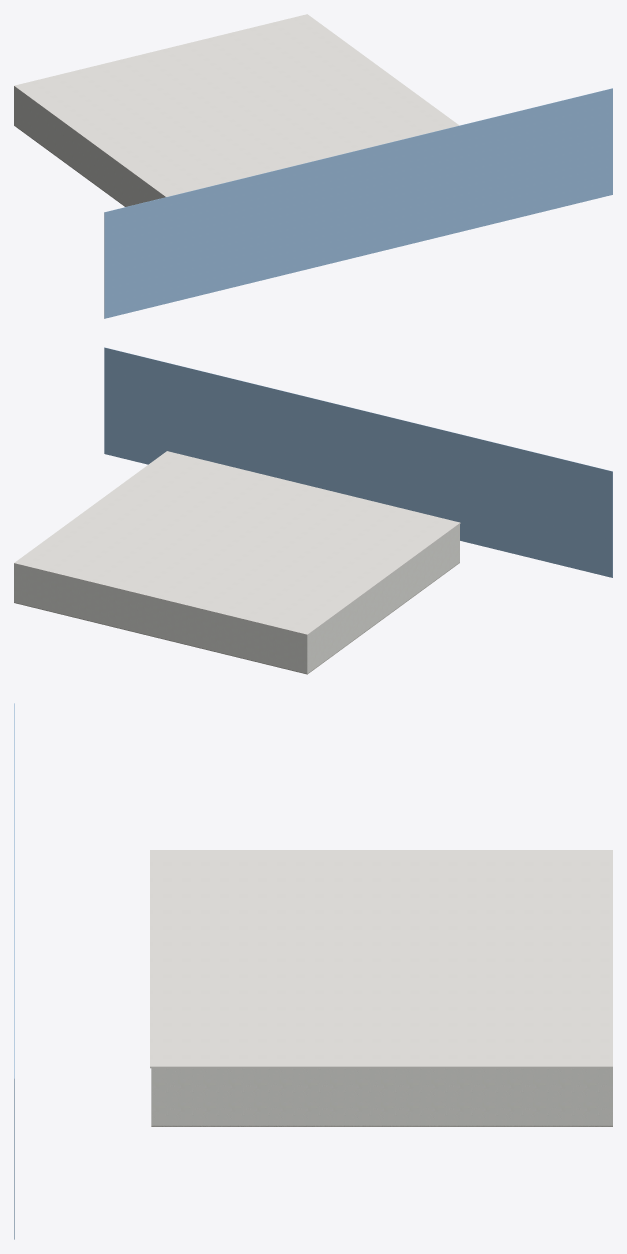
Rendered from interior.glb.
3 renders of one model, top to bottom at view 1: azimuth 30°, elevation 25°; view 2: azimuth 150°, elevation 25°; view 3: azimuth 270°, elevation 25°, orthographic. The views are drawn at different scales.
Visible parts, largest first — view 1: Sky_Front, Ceiling, Store_IN_WallMain; view 2: Sky_Front, Ceiling, Store_IN_WallMain, House_Floor_GreenCart; view 3: Ceiling, Store_IN_WallMain, House_Floor_GreenCart.
Boxes of the visible parts, left/top/right/bottom form: Sky_Front: left=104, top=88, right=612, bottom=318; Ceiling: left=14, top=14, right=459, bottom=197; Store_IN_WallMain: left=14, top=87, right=164, bottom=206; Sky_Front: left=104, top=347, right=612, bottom=577; Ceiling: left=14, top=451, right=460, bottom=635; Store_IN_WallMain: left=14, top=524, right=459, bottom=673; House_Floor_GreenCart: left=14, top=562, right=459, bottom=674; Ceiling: left=150, top=850, right=612, bottom=1068; Store_IN_WallMain: left=151, top=1068, right=612, bottom=1125; House_Floor_GreenCart: left=151, top=1125, right=612, bottom=1126.
Bounding box in the file's own units: 70 × 14 × 47.23.
Materials: 53 (50 with a texture image).
